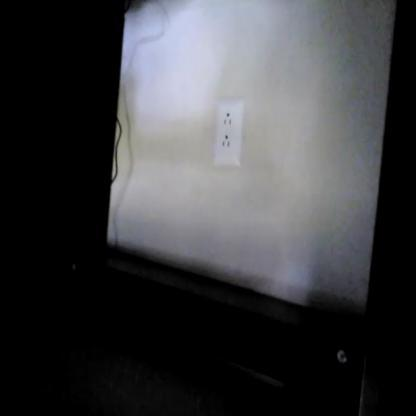OUTLET: (214, 102, 243, 167)
